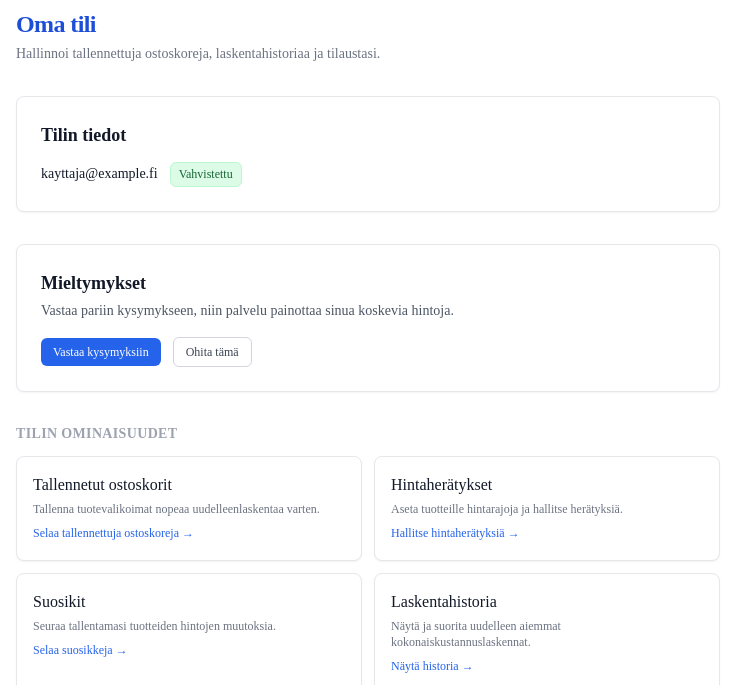
AccountPage onboarding preferences card (task 3.4) › dismiss PUTs exactly { onboarded: true } and flips to the set-state without reload
Click the button with test id "account-onboarding-dismiss": {"x": 212, "y": 352} [173, 337, 252, 367]
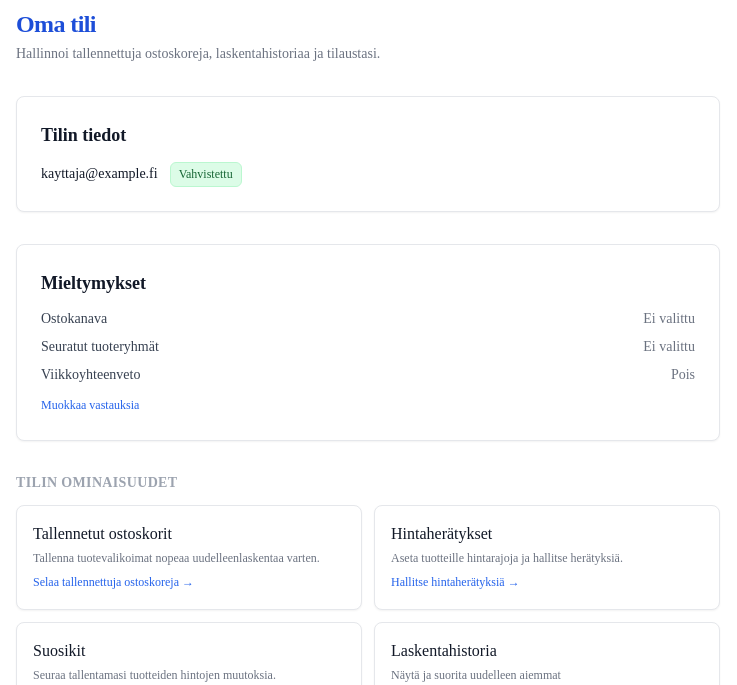
expect the element with test id "account-onboarding-summary" is shown: met, box [41, 269, 695, 416]
